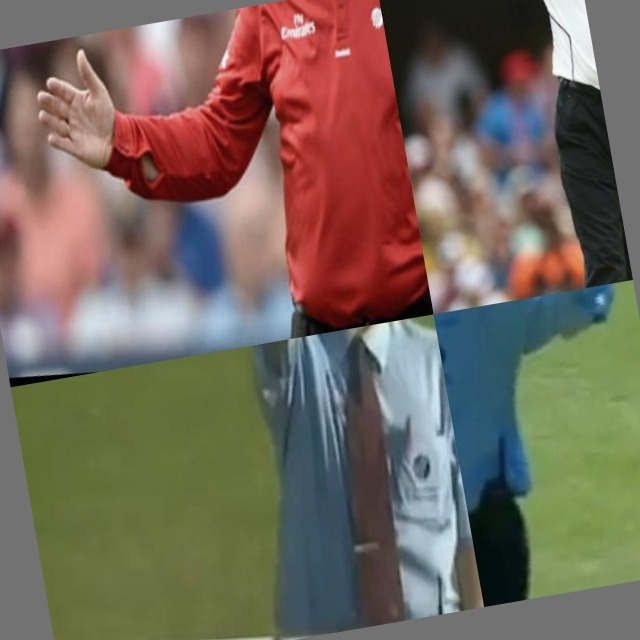No_Ball: (0, 0, 434, 382), (377, 0, 633, 314)
Out: (210, 314, 484, 640)
Wide: (434, 280, 640, 607)
